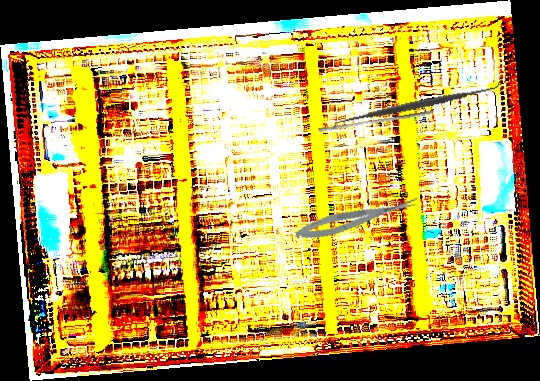Micro Scissor: (293, 194, 421, 244)
Pusher: (317, 105, 435, 137)
Spatula Surgical: (329, 77, 506, 132)
